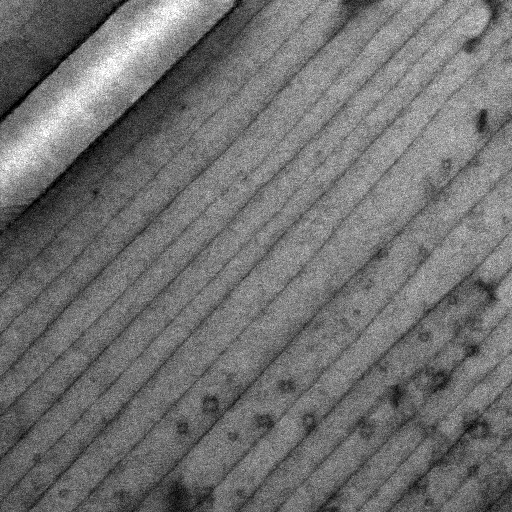y2o3: (410, 417, 451, 447), (161, 479, 191, 512), (463, 407, 492, 441), (427, 366, 453, 396), (189, 485, 220, 510), (410, 363, 435, 392), (403, 469, 428, 496), (354, 413, 378, 440), (265, 459, 294, 481), (382, 381, 405, 408), (106, 454, 128, 480), (298, 475, 318, 503), (397, 261, 422, 283), (474, 105, 490, 136), (200, 392, 222, 414), (458, 35, 481, 55), (429, 450, 452, 470), (371, 354, 391, 377), (274, 376, 298, 395), (252, 412, 274, 432), (299, 411, 319, 432), (413, 243, 435, 260), (468, 197, 485, 218), (371, 241, 388, 262), (462, 341, 482, 358), (230, 482, 250, 499), (28, 448, 43, 470), (55, 482, 73, 500), (467, 149, 484, 168), (172, 418, 189, 436), (417, 326, 433, 345), (464, 463, 481, 480), (438, 483, 454, 501), (224, 427, 240, 444), (422, 495, 439, 511), (445, 289, 460, 307), (310, 327, 325, 343), (363, 278, 376, 295), (439, 156, 452, 171), (498, 211, 510, 227), (87, 184, 100, 198), (502, 401, 512, 419), (87, 375, 100, 387), (177, 101, 189, 113), (352, 308, 364, 319)
